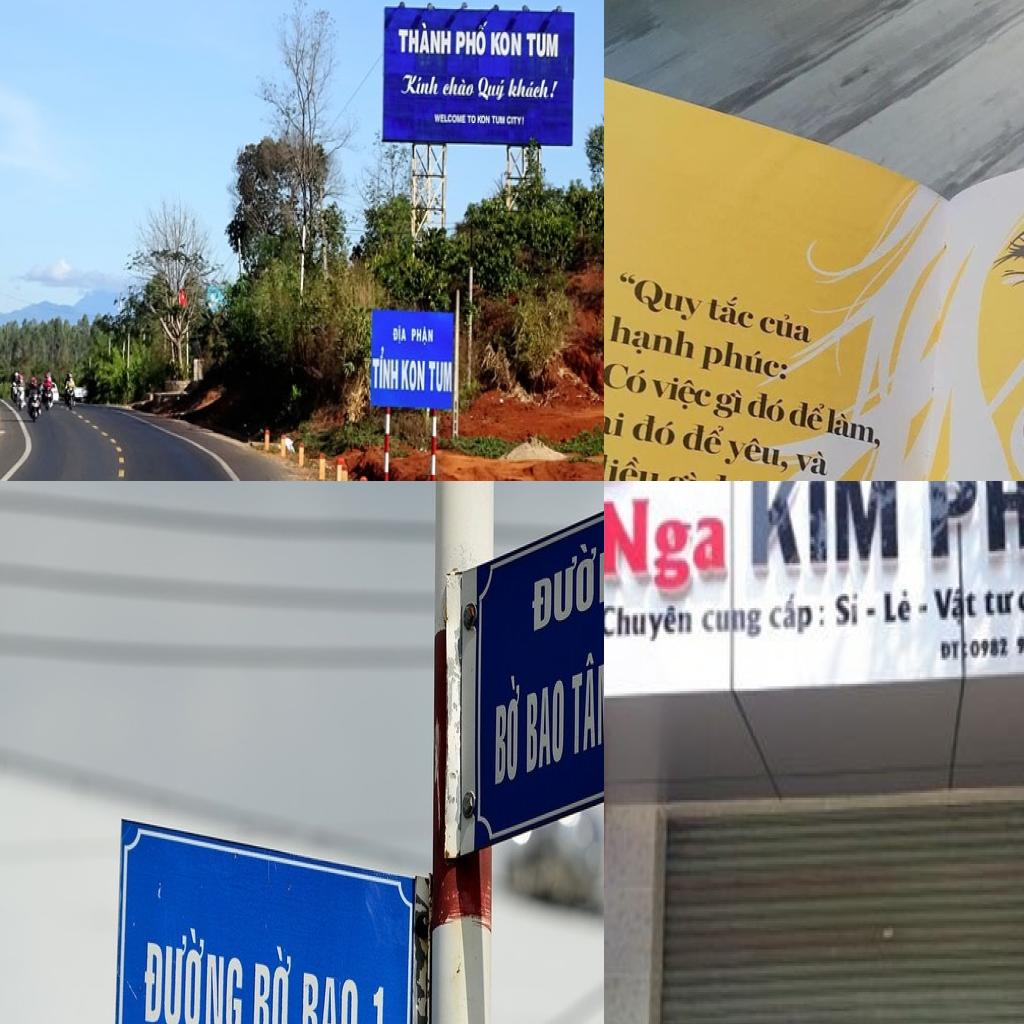text: (746, 481, 905, 575), (604, 487, 730, 593), (140, 911, 247, 1024), (525, 508, 604, 640), (916, 481, 1024, 567), (609, 266, 710, 327), (604, 310, 702, 369), (693, 330, 793, 386), (296, 951, 360, 1024), (246, 931, 295, 1024), (567, 638, 604, 760), (487, 669, 523, 793), (524, 669, 566, 775), (604, 598, 694, 646), (721, 429, 792, 477), (823, 403, 884, 454), (649, 369, 715, 414), (753, 305, 817, 349), (698, 601, 765, 641), (697, 294, 762, 334), (930, 580, 982, 630), (767, 587, 815, 639), (629, 408, 681, 450), (604, 446, 665, 481), (967, 627, 1024, 662), (744, 386, 790, 428), (678, 420, 728, 457), (604, 357, 649, 398), (398, 21, 452, 55), (785, 396, 829, 434), (881, 584, 915, 630), (708, 386, 748, 424), (832, 584, 862, 630), (371, 345, 400, 391), (981, 582, 1016, 620), (506, 77, 562, 100), (456, 21, 489, 58), (794, 448, 831, 480), (368, 975, 388, 1024), (400, 74, 441, 97), (475, 77, 508, 103), (491, 30, 523, 56), (441, 76, 478, 98), (401, 360, 426, 392), (526, 34, 559, 58), (604, 409, 628, 440), (937, 636, 961, 665), (700, 468, 752, 481), (412, 325, 435, 348), (661, 469, 703, 481), (433, 113, 467, 126), (392, 325, 408, 345), (506, 114, 525, 126), (491, 114, 507, 126), (477, 114, 491, 126), (467, 114, 477, 126)
